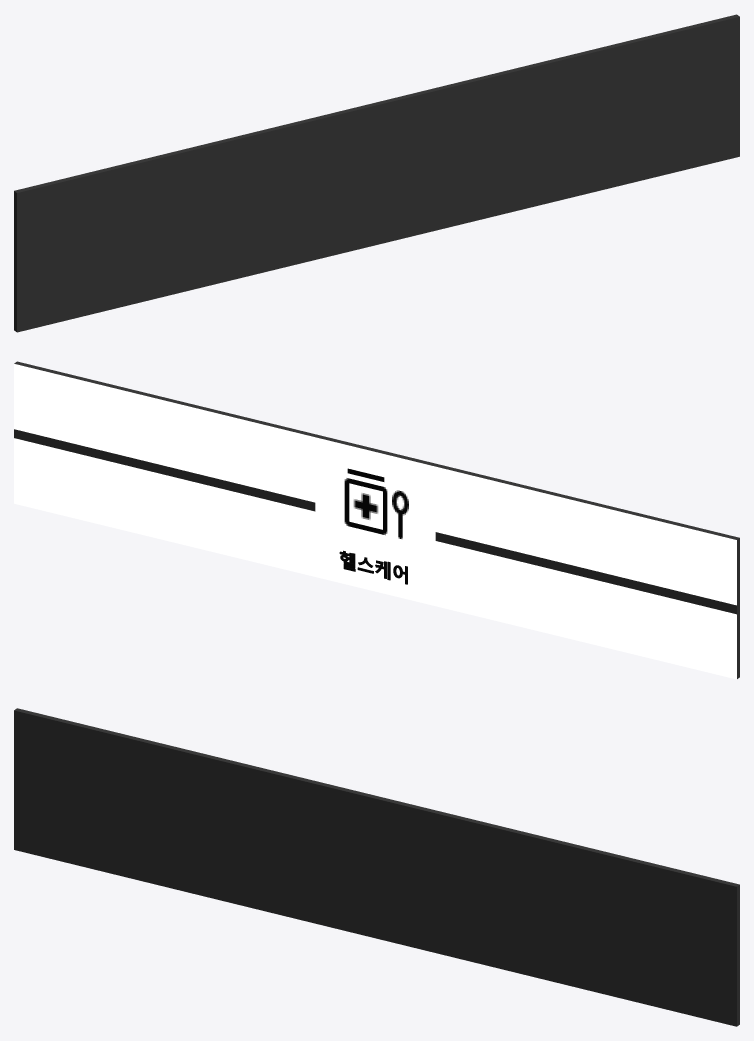
The model's file is top06_02.glb.
The picture shows the model from 3 angles, top to bottom: view 1: azimuth 30°, elevation 25°; view 2: azimuth 150°, elevation 25°; view 3: azimuth 330°, elevation 25°; orthographic projection.
Parts seen in each view (by area): view 1: Cube.294; view 2: Cube.294, Plane.014, Text.098; view 3: Cube.294.
Boxes of the visible parts, x1,y1,x2,y2 form: Cube.294: (14, 14, 739, 332); Cube.294: (14, 361, 739, 679); Plane.014: (344, 468, 408, 538); Text.098: (339, 550, 407, 584); Cube.294: (14, 708, 739, 1026).
Bounding box in the file's own units: 2.72 × 0.5039 × 0.0327.
Materials: 4 (1 with a texture image).
